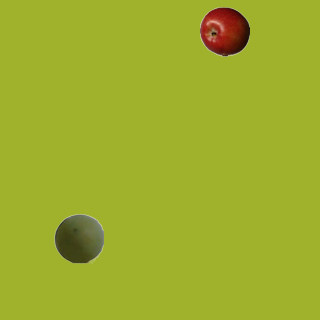Apple Braeburn: (199, 6, 249, 56)
Grape White 4: (53, 213, 103, 263)
